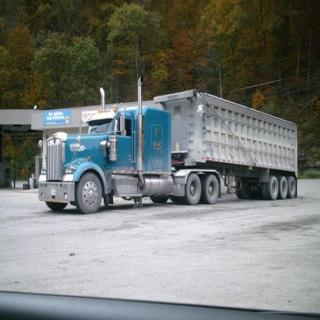Normal_vehicle: (32, 81, 300, 217)
